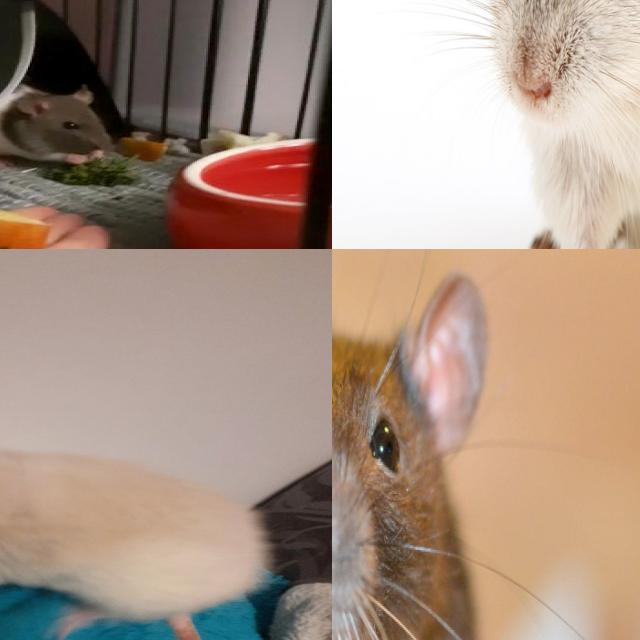rat: (332, 249, 495, 640), (0, 418, 271, 636), (461, 0, 640, 249), (0, 85, 113, 174)
